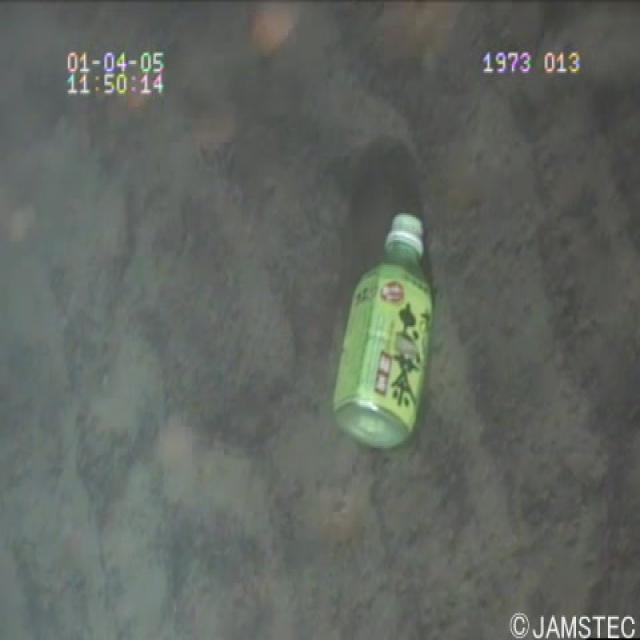plastic: (324, 201, 441, 455)
